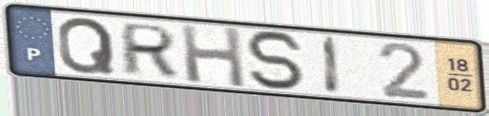2: (374, 41, 433, 101)
H: (177, 22, 249, 91)
I: (321, 33, 344, 97)
Q: (55, 16, 119, 76)
R: (119, 21, 180, 78)
S: (242, 28, 310, 93)
